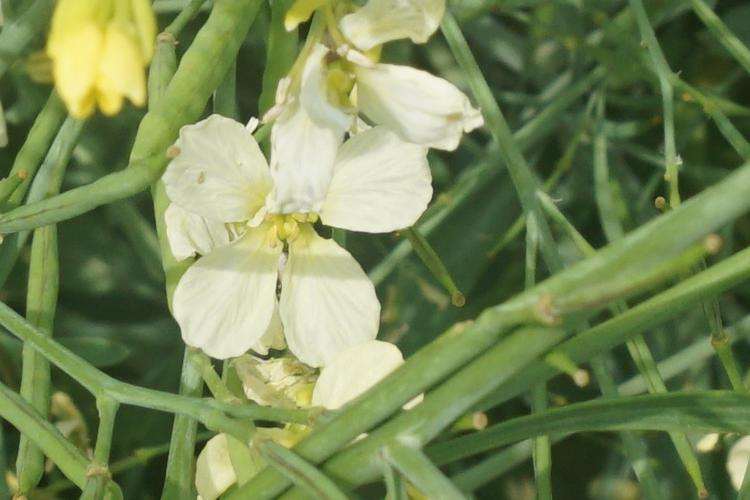pod: (506, 222, 731, 319), (216, 427, 371, 500), (43, 144, 179, 227), (408, 215, 482, 318), (405, 388, 512, 438), (642, 177, 720, 230), (6, 152, 40, 210)
white: (177, 116, 422, 352), (257, 25, 478, 200)
yellow: (41, 20, 196, 129)
